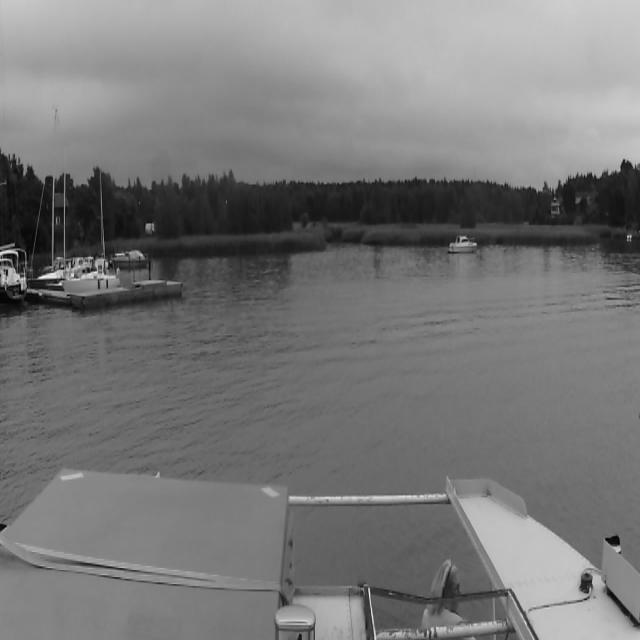ship: (62, 166, 122, 294), (26, 104, 64, 288), (451, 234, 476, 253)
